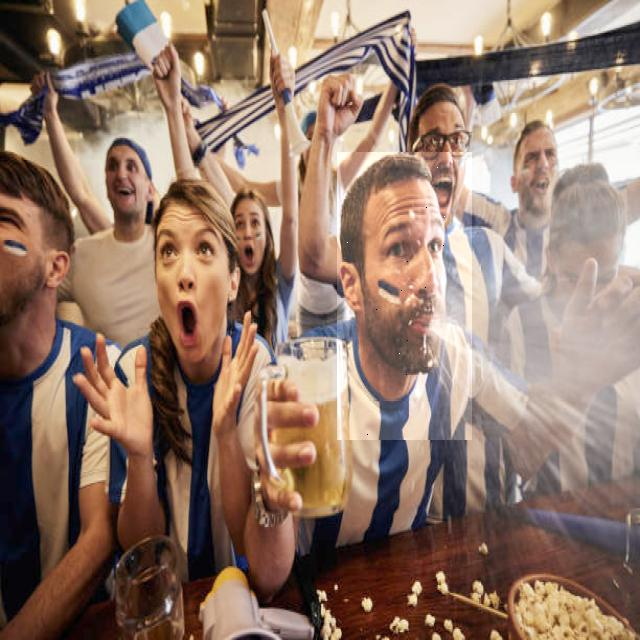Spitting: (338, 152, 473, 440)
